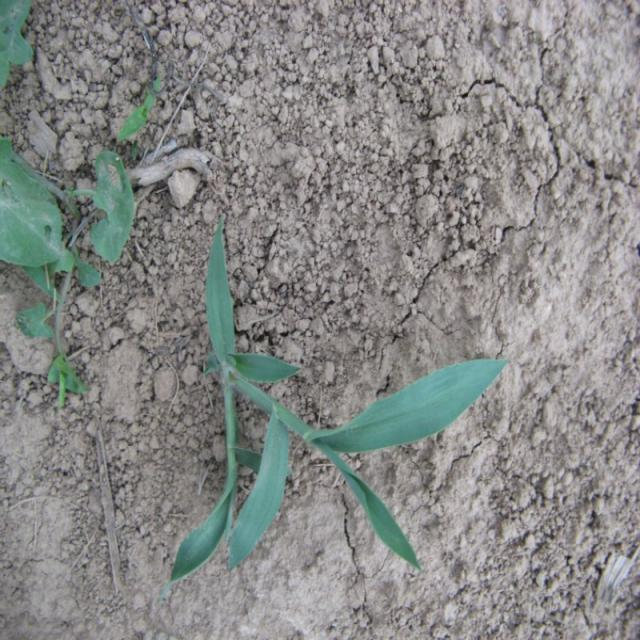bg: (167, 226, 504, 570)
